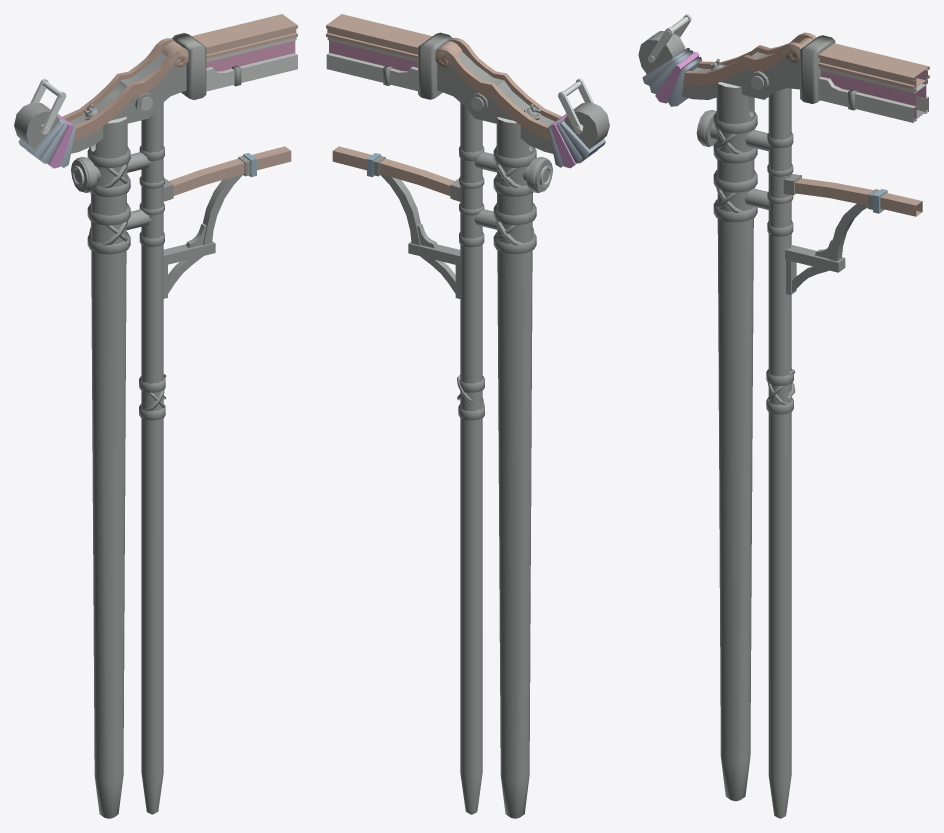
3 renders of one model, left to right at view 1: azimuth 30°, elevation 25°; view 2: azimuth 150°, elevation 25°; view 3: azimuth 330°, elevation 25°, orthographic. The views are drawn at different scales.
Visible parts, largest first — view 1: G:\FFXIV-MapTools\exports\y6f2\bg\ex5\02_ykt_y6\fld\y6f2\bgp (×4); view 2: G:\FFXIV-MapTools\exports\y6f2\bg\ex5\02_ykt_y6\fld\y6f2\bgp (×4); view 3: G:\FFXIV-MapTools\exports\y6f2\bg\ex5\02_ykt_y6\fld\y6f2\bgp (×4).
Boxes of the visible parts, left/top/right/bottom form: G:\FFXIV-MapTools\exports\y6f2\bg\ex5\02_ykt_y6\fld\y6f2\bgp (×4): left=14, top=14, right=297, bottom=818; G:\FFXIV-MapTools\exports\y6f2\bg\ex5\02_ykt_y6\fld\y6f2\bgp (×4): left=326, top=14, right=609, bottom=818; G:\FFXIV-MapTools\exports\y6f2\bg\ex5\02_ykt_y6\fld\y6f2\bgp (×4): left=638, top=14, right=929, bottom=818.
Size of the model in its own units: 14.66 by 39.72 by 2.09.
